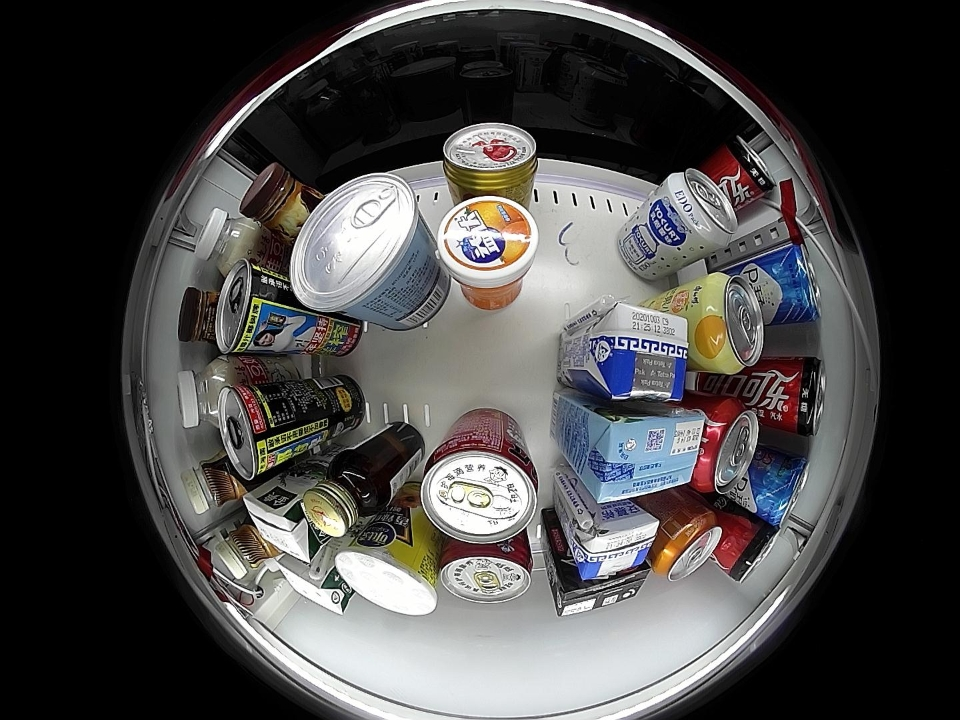anmuxi: (586, 303, 689, 403), (570, 504, 660, 580)
fenda: (651, 507, 722, 582)
haitai: (289, 172, 428, 317)
hongniu: (441, 122, 539, 192)
jindian: (242, 480, 325, 564), (273, 548, 353, 617)
kafei: (181, 452, 250, 515), (213, 523, 277, 581)
kebike: (334, 528, 440, 616)
kele: (692, 398, 759, 494)
libaojian: (303, 455, 390, 539)
lingdukele: (719, 518, 782, 585), (777, 356, 826, 436), (719, 136, 777, 199)
lujikafei: (239, 162, 317, 236), (178, 286, 221, 349)
mangguoxiaolao: (693, 273, 766, 374)
qingdaowangzi-2: (751, 453, 810, 526), (768, 244, 821, 325)
rusuanjunqishui: (657, 168, 739, 251)
wangzainiunai: (421, 430, 539, 544), (438, 535, 533, 605)
weitanai2: (552, 566, 650, 618)
weitanaiditang: (583, 406, 704, 504)
weiweidounai: (194, 207, 262, 277), (177, 357, 240, 430)
yezhi: (218, 378, 284, 480), (215, 261, 276, 354)
yida: (437, 195, 538, 293)
